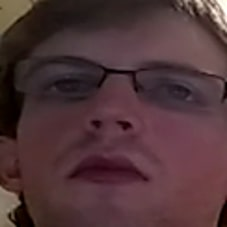drowsy: (30, 50, 226, 193)
